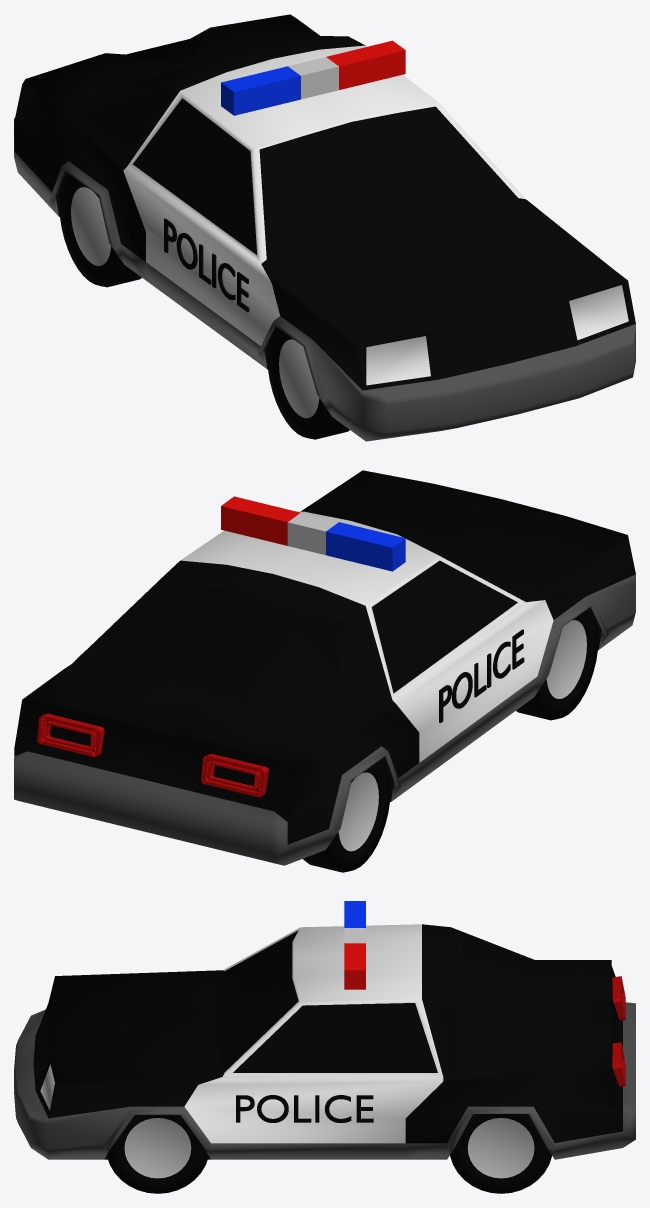
File: CopCar.fbx
The picture shows the model from 3 angles, top to bottom: view 1: azimuth 30°, elevation 25°; view 2: azimuth 150°, elevation 25°; view 3: azimuth 270°, elevation 25°; orthographic projection. The views are drawn at different scales.
Parts seen in each view (by area): view 1: Cube, Cube.001; view 2: Cube, Cube.001, TailLight; view 3: Cube, Cube.001, TailLight.
Part boxes in pixels (left/top/right/bottom): Cube: left=14, top=14, right=635, bottom=441; Cube.001: left=221, top=40, right=405, bottom=115; Cube: left=14, top=470, right=635, bottom=872; Cube.001: left=221, top=496, right=405, bottom=571; TailLight: left=37, top=713, right=268, bottom=797; Cube: left=14, top=924, right=635, bottom=1193; Cube.001: left=344, top=901, right=365, bottom=989; TailLight: left=612, top=976, right=625, bottom=1086.
Size of the model in its own units: 126 by 105 by 287.
